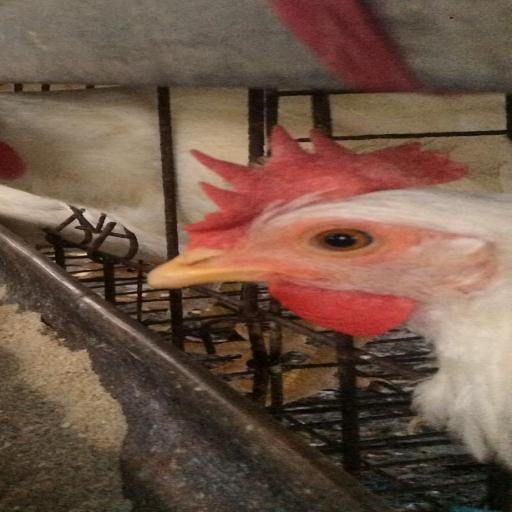healthy: (146, 124, 482, 343)
